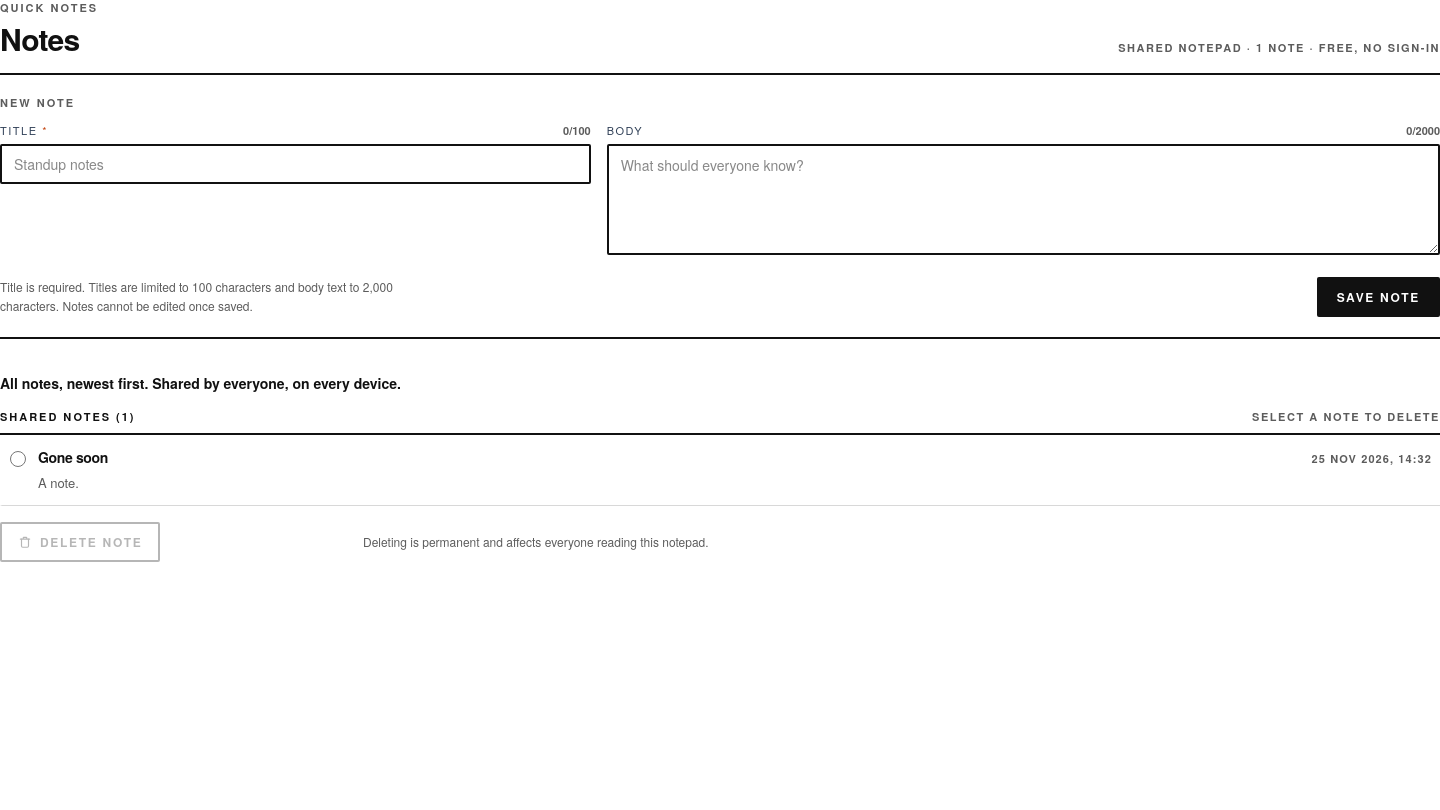
Test: Notes screen › [AC-010] removes the note from the shared store and the list once confirmed
Expected: the list with test id "shared-notes-3-list" is shown, [0,435,1439,506]
Click the radio button labelled "Gone soon": (18, 459) [10,451,26,467]
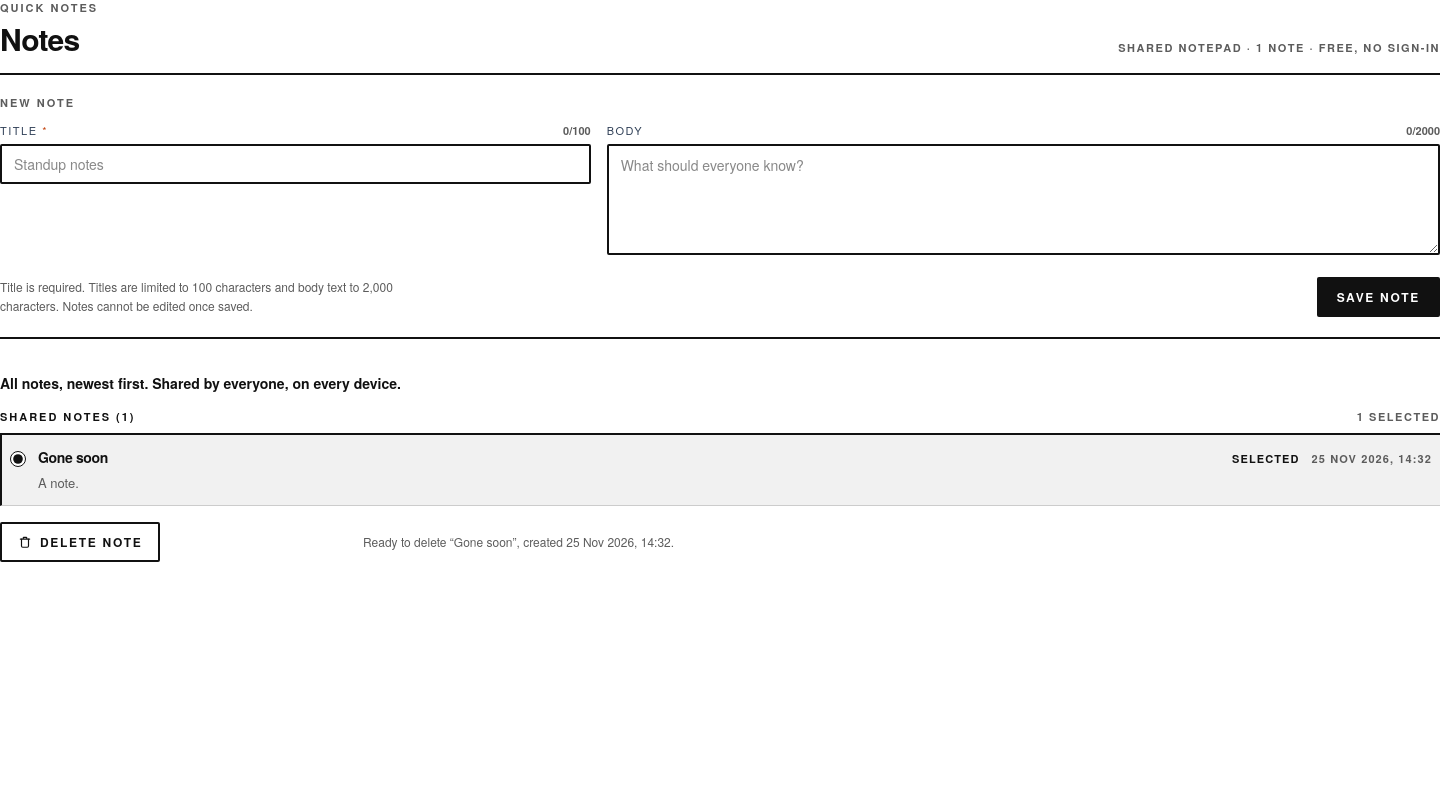
Click the button with test id "delete-note-btn": (80, 542) [0,522,160,562]
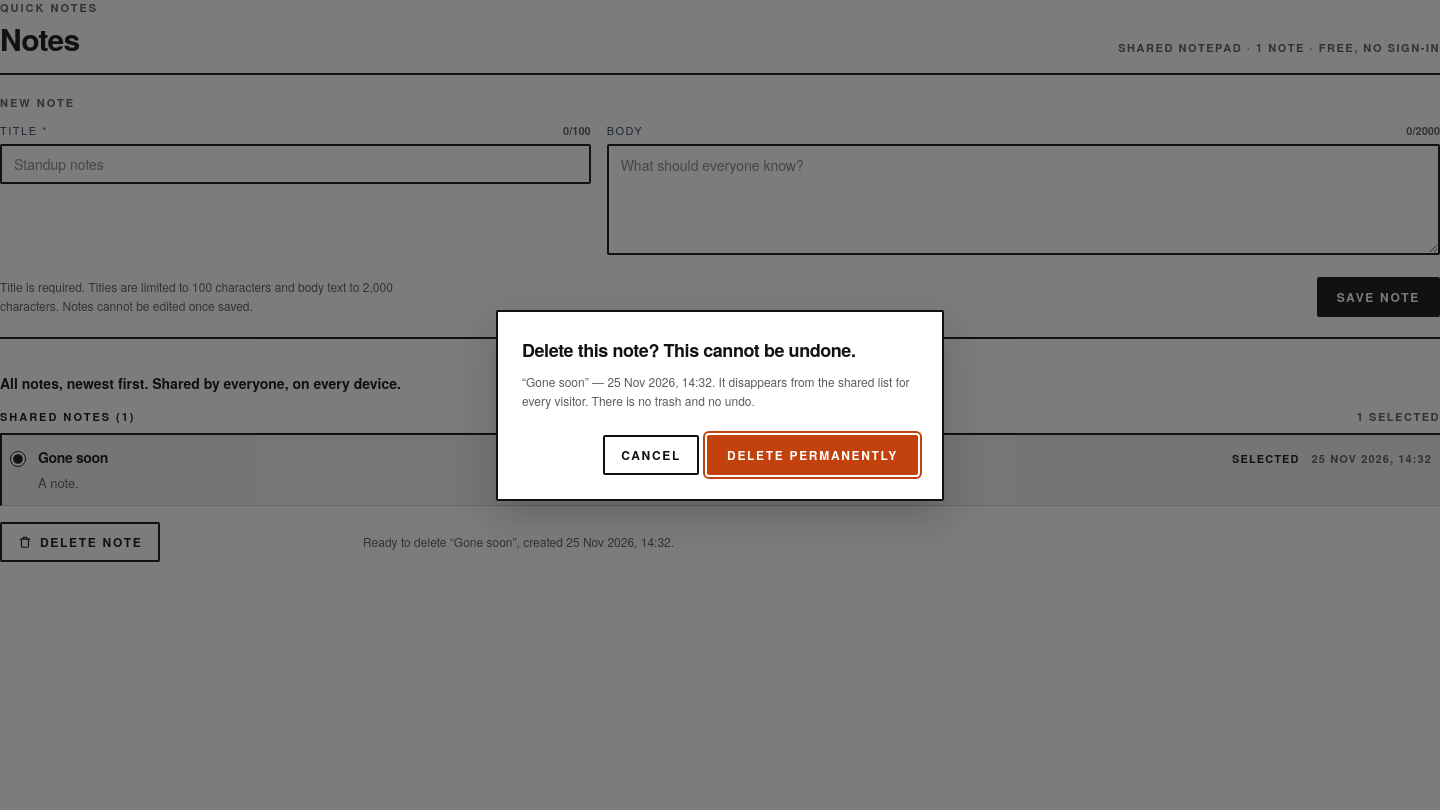
Now the element with test id "delete-this-note-this-cannot-be-un-modal" is shown
Click the button "Delete permanently": (813, 454) [707,434,918,474]
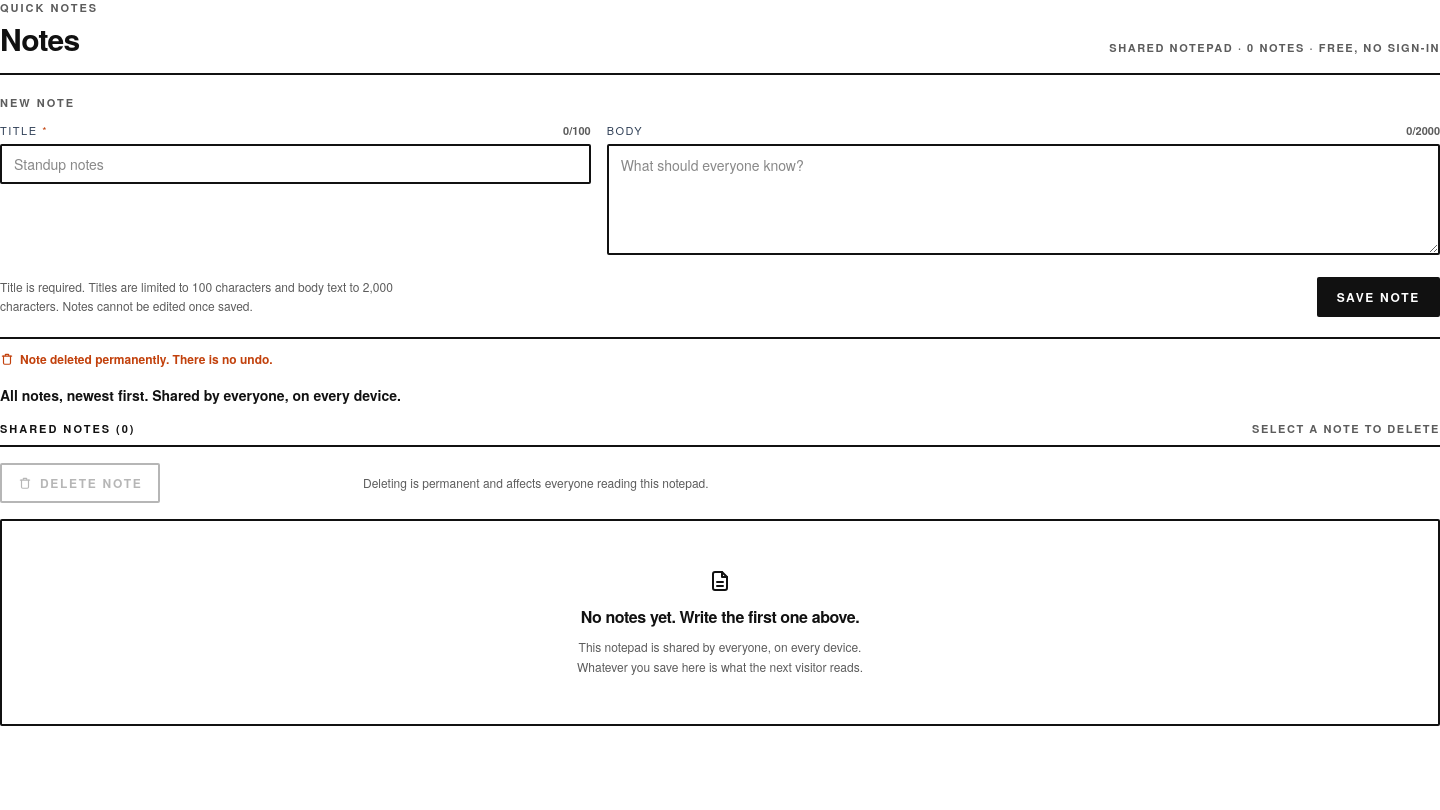
Now the element with test id "delete-this-note-this-cannot-be-un-modal" is gone
Now the element with test id "no-notes-yet-write-the-first-one-a-empty" shows "No notes yet. Write the first one above.", box [581,605,859,628]
Now the text "Note deleted permanently. There is no undo." is shown, box [0,350,273,366]
